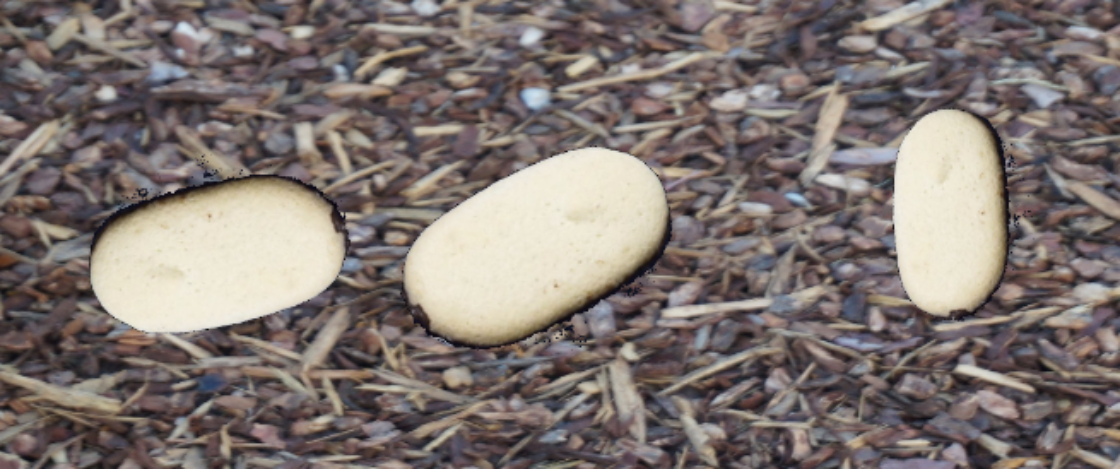test: (60, 99, 373, 403), (385, 106, 691, 395), (824, 83, 1082, 343)
